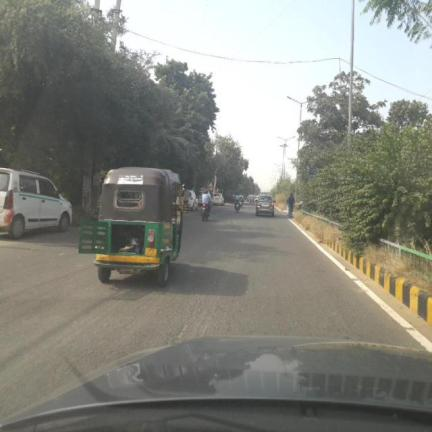Road: (0, 206, 421, 417)
